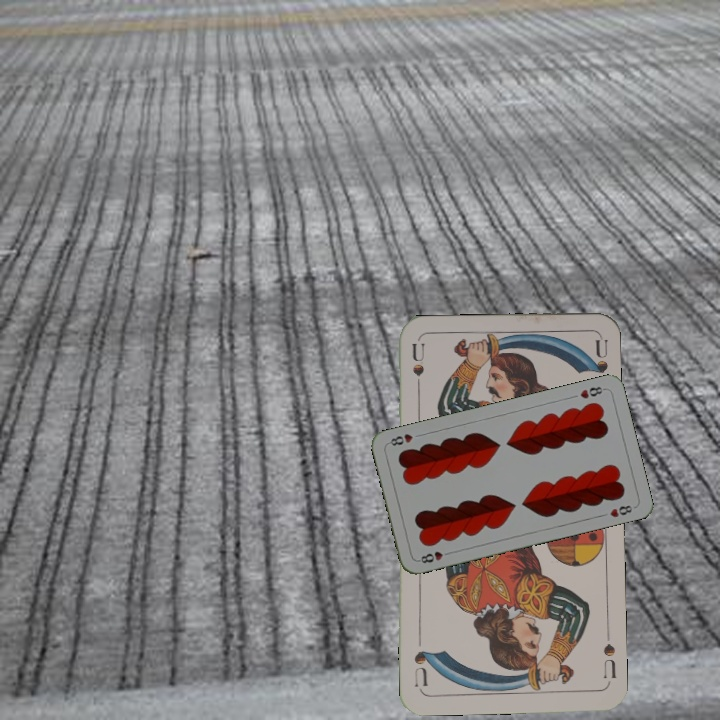H8: (414, 547, 454, 566), (576, 382, 608, 401)
SU: (408, 340, 427, 399), (599, 639, 619, 681)
